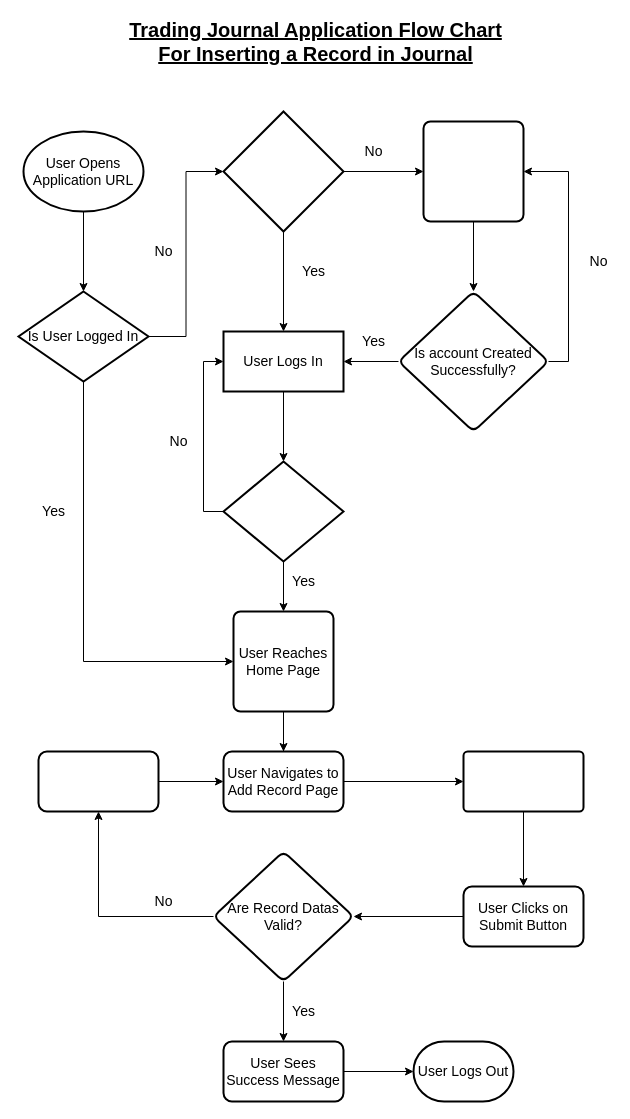
This 630x1119 diagram has some shape labels left out. The centre of each missing label's shape, as x and y in pixels:
"Is Login Successful?" goes at [283,511].
"Show Error Message" goes at [98,781].
"User Clickes on Add Record Button" goes at [523,781].
"User Creates a New Account" goes at [473,171].
"User Has an Account?" goes at [283,171].
